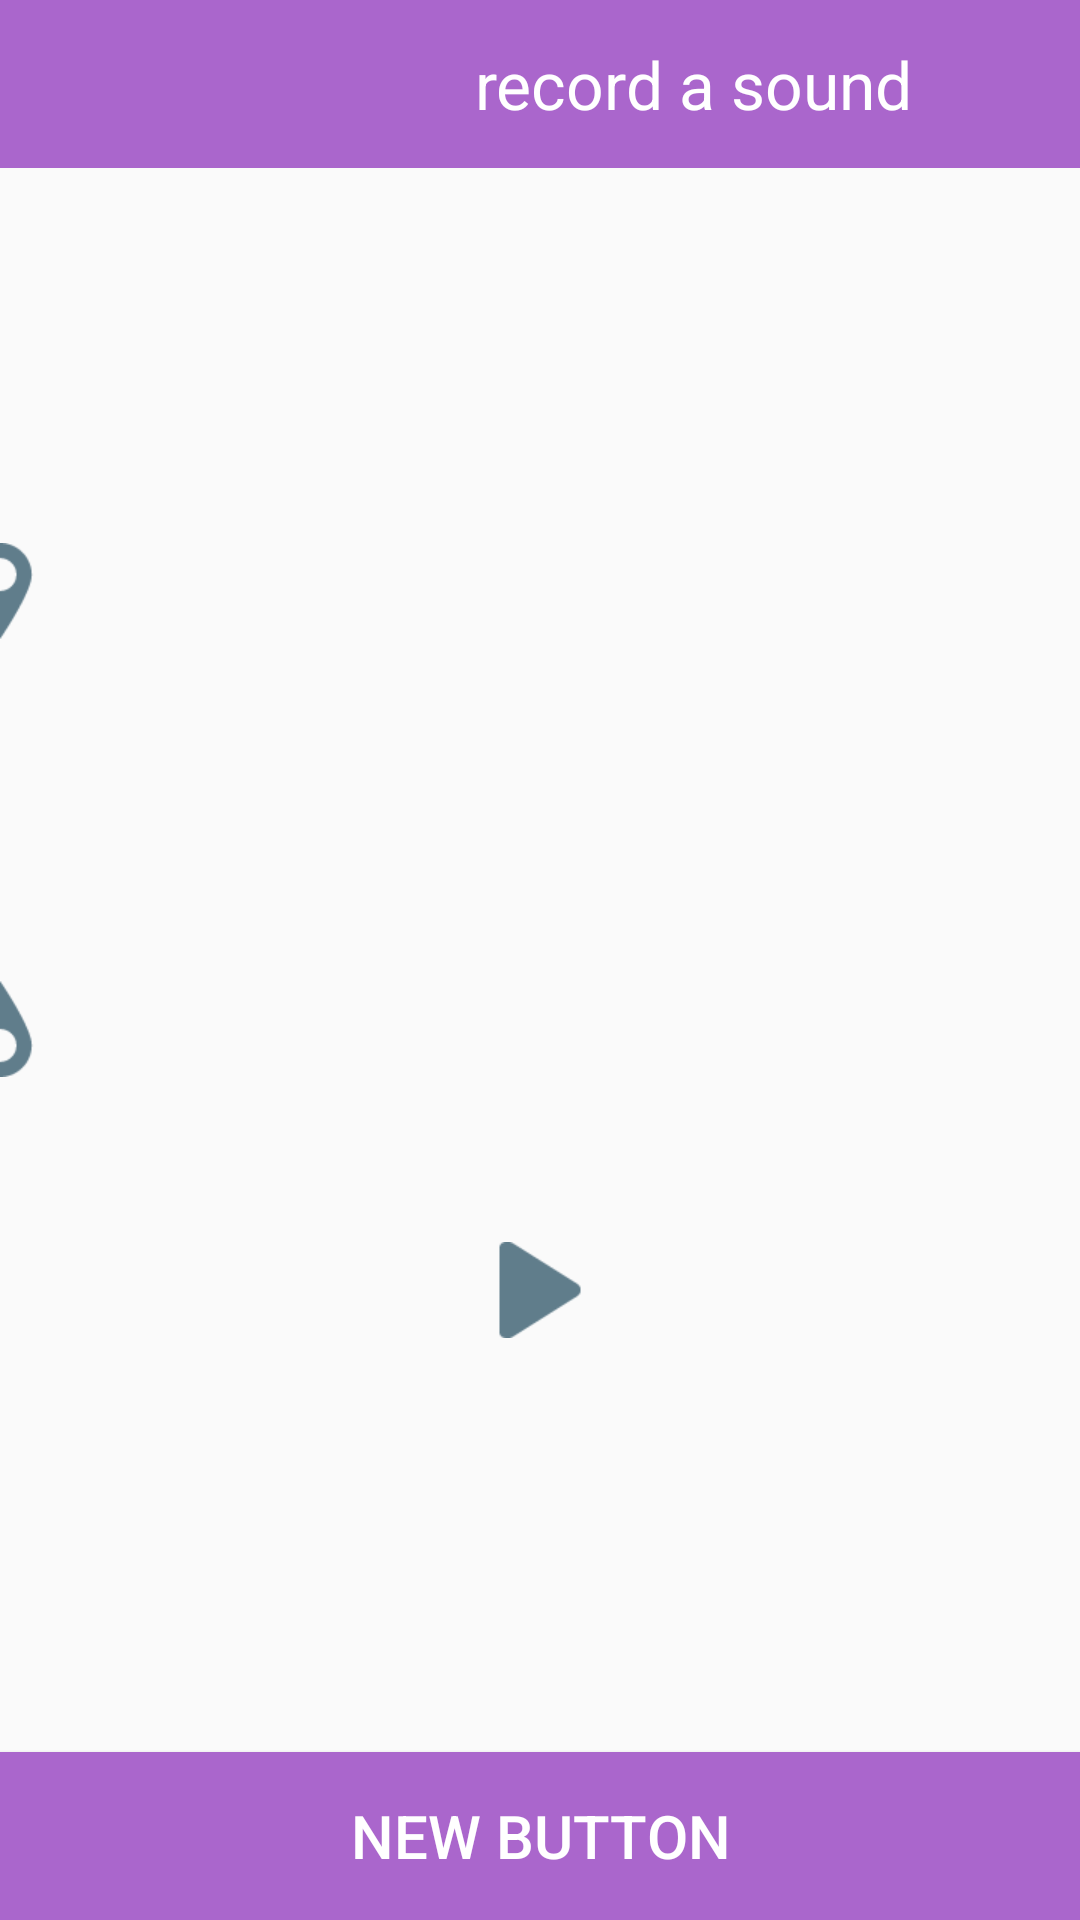

Icon bounding boxes for this 1080×1920 phone screenshot, format (x1, y1, x2, y2):
play: (499, 1242, 581, 1338)
